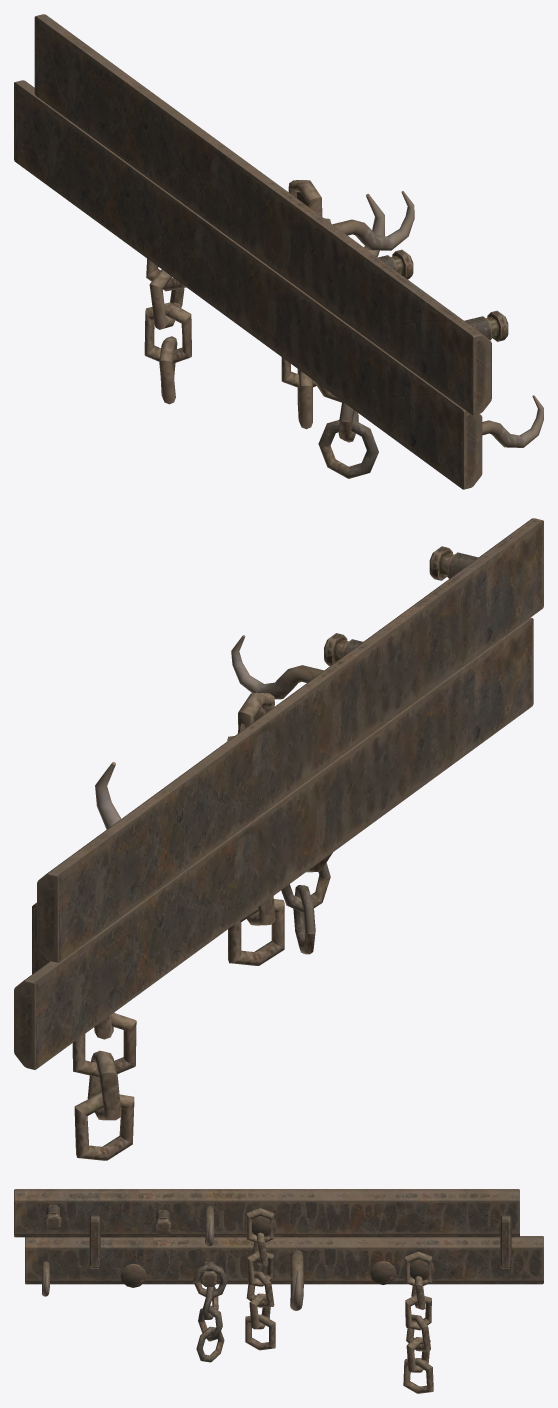
The picture shows the model from 3 angles, top to bottom: view 1: azimuth 30°, elevation 25°; view 2: azimuth 150°, elevation 25°; view 3: azimuth 270°, elevation 25°; orthographic projection. The views are drawn at different scales.
Parts seen in each view (by area): view 1: SM_DR_TortureWall_02_LOD0; view 2: SM_DR_TortureWall_02_LOD0; view 3: SM_DR_TortureWall_02_LOD0.
Boxes of the visible parts, x1,y1,x2,y2 form: SM_DR_TortureWall_02_LOD0: (14, 14, 543, 489); SM_DR_TortureWall_02_LOD0: (14, 518, 543, 1160); SM_DR_TortureWall_02_LOD0: (14, 1189, 543, 1393).
Bounding box in the file's own units: 0.4163 × 0.8405 × 2.1.
Materials: 1 (1 with a texture image).
